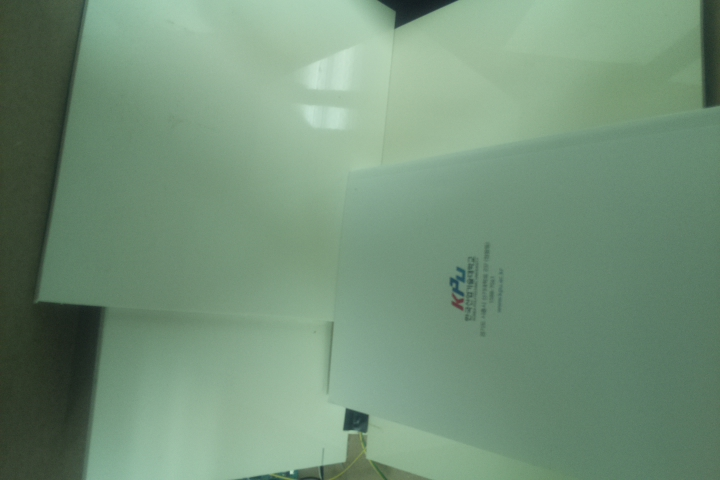book: (322, 104, 720, 480)
